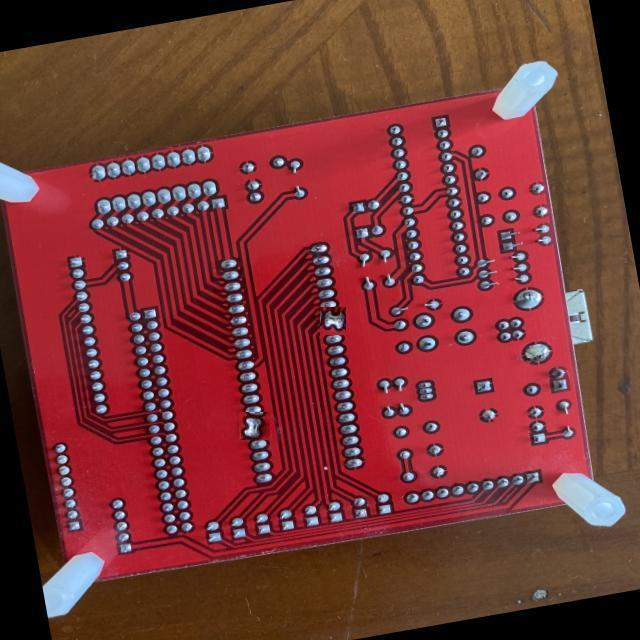damged: (239, 412, 270, 440), (319, 308, 346, 335)
